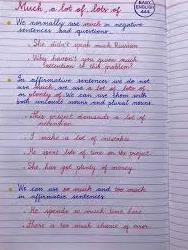text: (20, 218, 150, 235), (22, 159, 134, 178), (13, 0, 122, 18), (15, 72, 152, 86), (24, 109, 147, 124), (22, 146, 153, 160), (26, 36, 140, 52), (15, 16, 144, 30), (21, 204, 144, 218), (21, 131, 132, 146), (14, 97, 152, 109), (15, 90, 148, 102), (15, 182, 148, 194), (28, 52, 140, 66), (15, 84, 149, 94), (40, 61, 132, 74), (16, 26, 114, 38), (16, 191, 107, 203), (35, 120, 76, 130), (134, 4, 154, 11), (138, 0, 152, 5), (140, 8, 150, 14)
